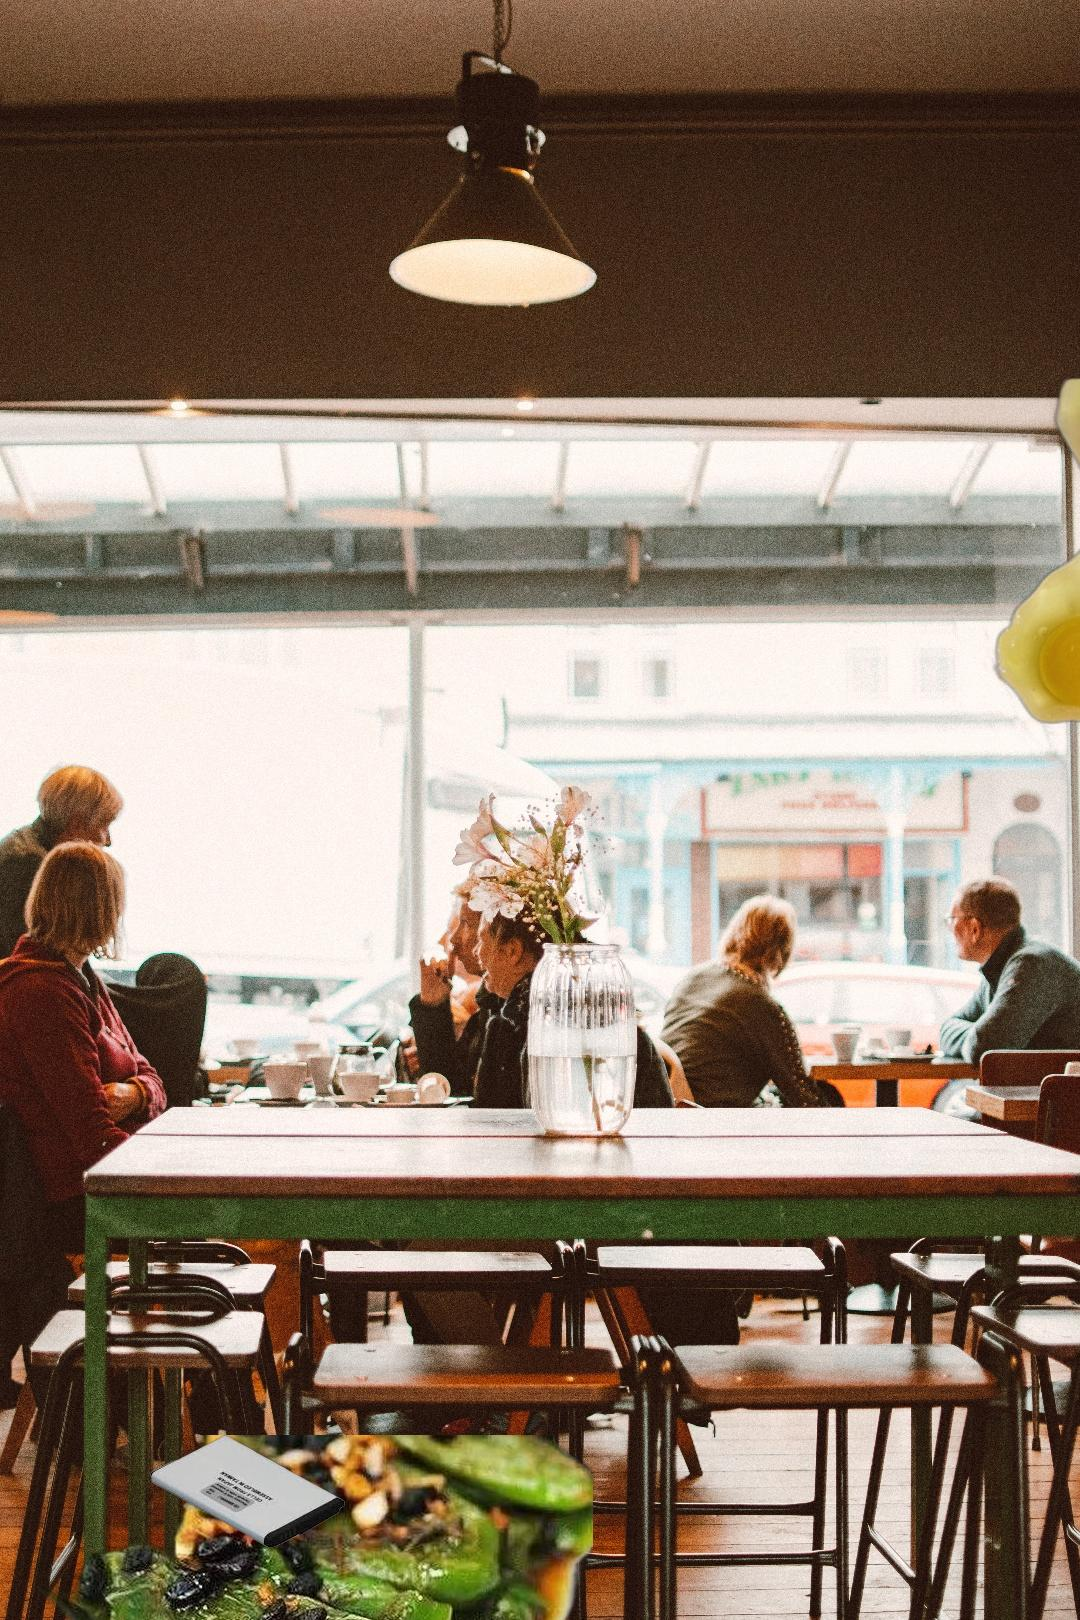battery: (147, 1433, 348, 1551)
biological: (34, 1436, 593, 1620), (990, 372, 1080, 843)
